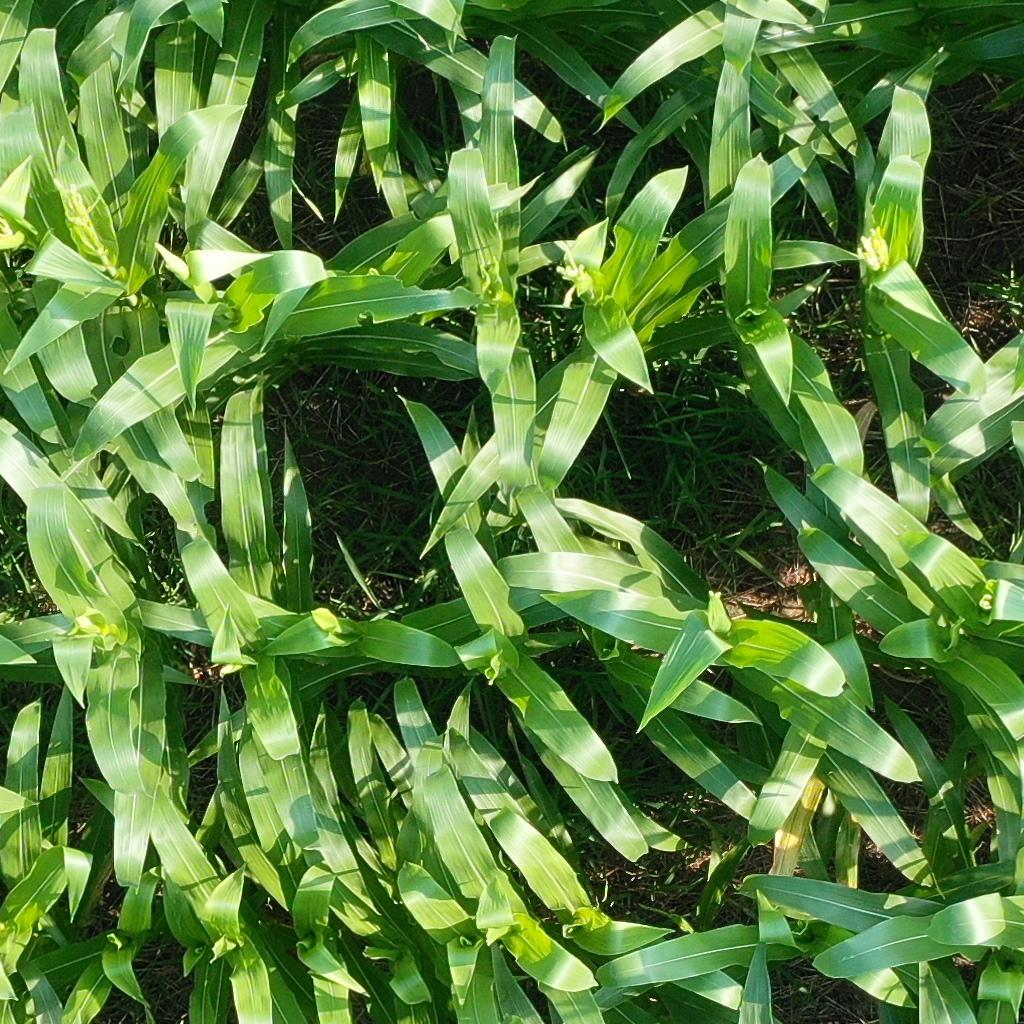Tassel: (55, 174, 104, 232), (552, 241, 591, 308), (854, 225, 892, 274), (151, 236, 191, 274), (218, 659, 240, 679), (1, 213, 15, 238), (74, 615, 93, 632)
